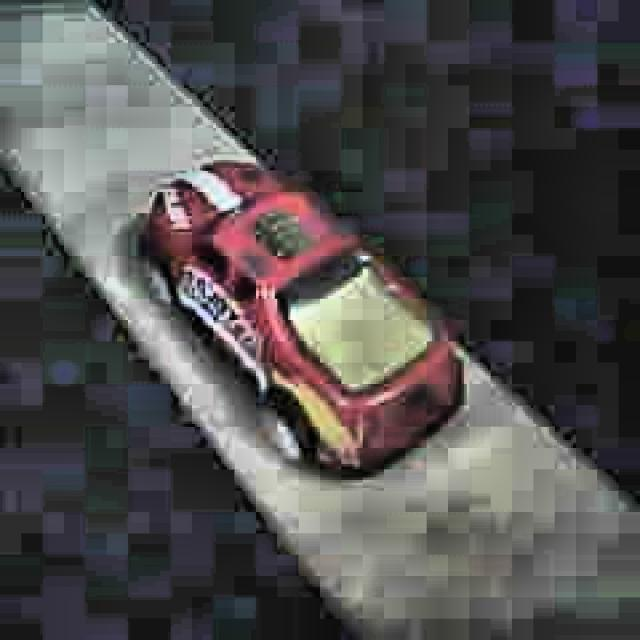car: (137, 155, 469, 483)
